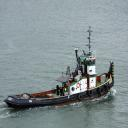tugboat: (4, 26, 116, 112)
